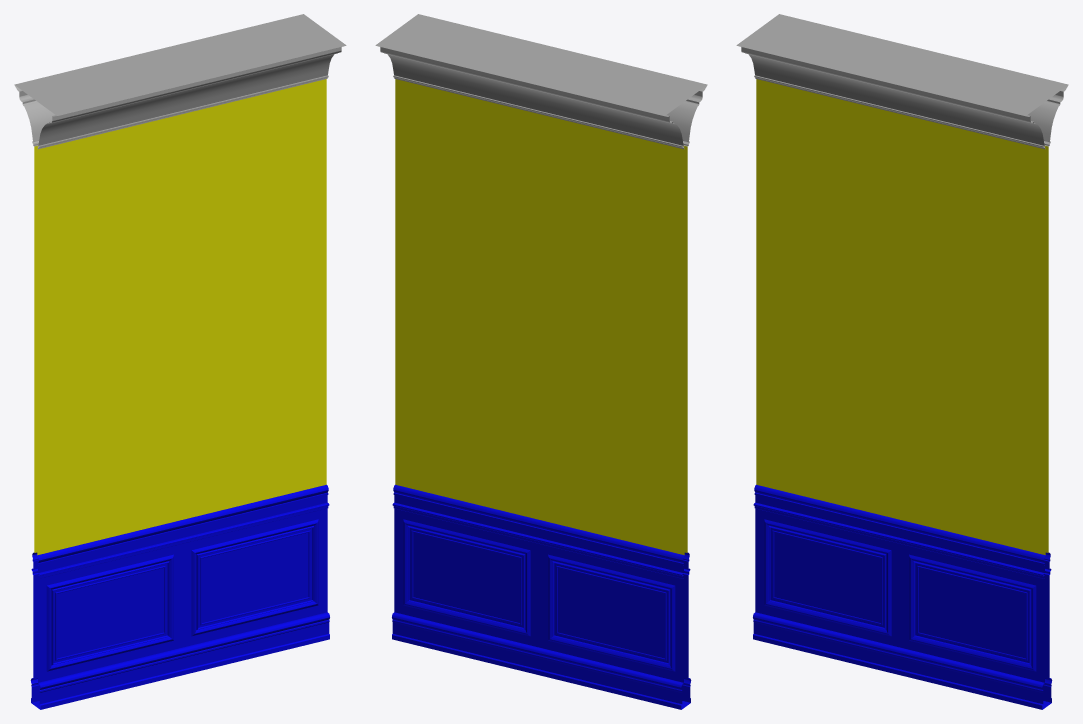
File: Wall_A.fbx
The picture shows the model from 3 angles, left to right: view 1: azimuth 30°, elevation 25°; view 2: azimuth 150°, elevation 25°; view 3: azimuth 330°, elevation 25°; orthographic projection.
Visible parts, largest first — view 1: Wall_A; view 2: Wall_A; view 3: Wall_A.
Boxes of the visible parts, <box> form: Wall_A: <box>14,14,346,709</box>; Wall_A: <box>375,14,707,709</box>; Wall_A: <box>736,14,1068,709</box>.
Bounding box in the file's own units: 2 × 4 × 0.5158.
